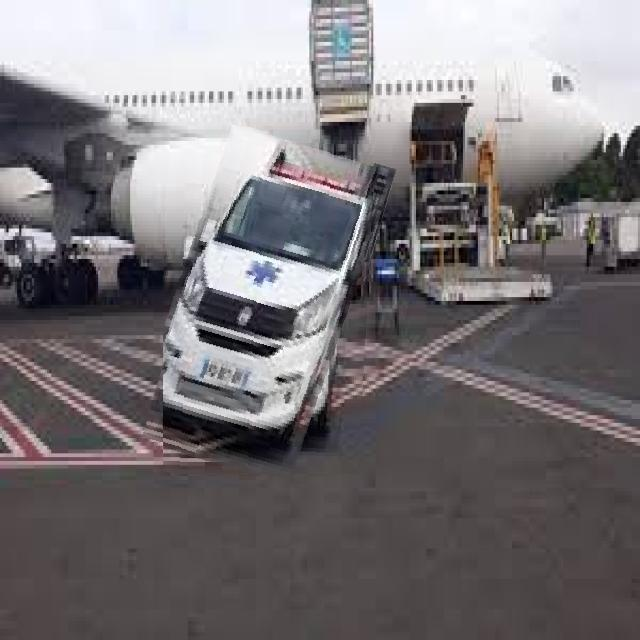ambulance: (163, 131, 376, 474)
